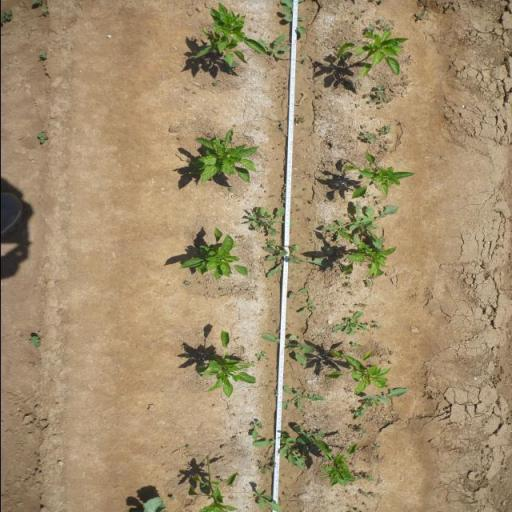plant: (183, 2, 269, 65), (193, 328, 257, 399), (186, 129, 261, 185), (175, 225, 249, 280), (332, 32, 412, 79), (339, 151, 417, 198), (186, 454, 242, 512), (338, 232, 398, 278), (326, 349, 392, 390), (311, 438, 358, 488)
weed: (319, 200, 400, 248), (260, 244, 330, 282), (248, 430, 304, 471), (350, 389, 408, 422), (262, 330, 316, 365), (244, 205, 295, 237), (281, 385, 326, 413), (293, 421, 327, 458), (256, 31, 291, 60), (278, 0, 306, 36), (330, 312, 364, 338), (253, 487, 281, 512), (297, 298, 317, 314), (248, 420, 264, 439), (286, 287, 308, 299), (358, 130, 376, 144), (0, 10, 14, 24), (35, 130, 49, 144), (376, 98, 392, 110), (374, 84, 387, 98), (349, 424, 365, 434), (224, 64, 240, 74), (254, 349, 266, 362), (377, 124, 391, 135), (254, 462, 266, 474), (28, 336, 41, 347), (292, 114, 306, 124), (280, 185, 286, 204), (380, 24, 394, 32), (266, 238, 276, 249), (38, 8, 49, 18), (363, 24, 376, 32), (269, 452, 275, 469), (370, 442, 380, 452), (37, 51, 48, 60), (363, 474, 375, 482), (354, 302, 369, 308), (358, 489, 368, 497), (364, 278, 372, 288), (414, 13, 424, 21), (278, 120, 284, 131), (248, 360, 256, 368), (351, 342, 361, 348), (380, 144, 390, 150), (371, 324, 380, 330), (354, 474, 362, 480), (167, 495, 175, 501), (376, 18, 384, 24), (348, 291, 354, 298), (235, 234, 242, 240), (363, 192, 370, 198), (212, 80, 218, 87), (375, 165, 383, 170), (350, 40, 360, 44), (184, 280, 190, 286), (307, 198, 313, 204), (368, 98, 374, 104), (343, 284, 351, 288), (356, 14, 364, 18), (364, 93, 370, 98), (350, 10, 355, 16), (302, 56, 306, 63), (372, 320, 378, 324), (377, 200, 381, 206), (335, 43, 342, 46), (227, 188, 232, 192), (361, 124, 366, 128), (355, 103, 360, 107), (349, 311, 354, 314), (196, 282, 202, 284), (218, 288, 223, 290), (398, 122, 403, 124), (376, 197, 378, 199)
